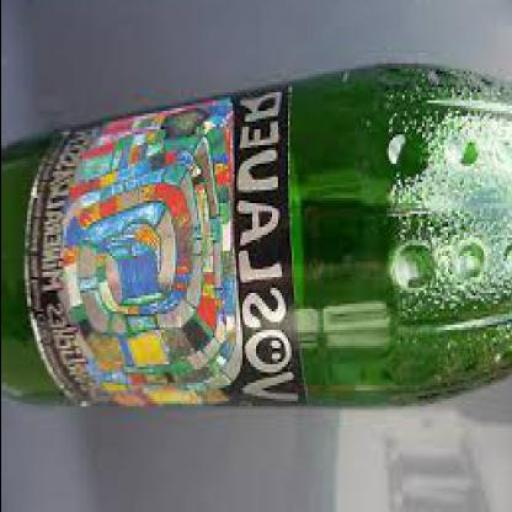glass: (1, 62, 511, 414)
